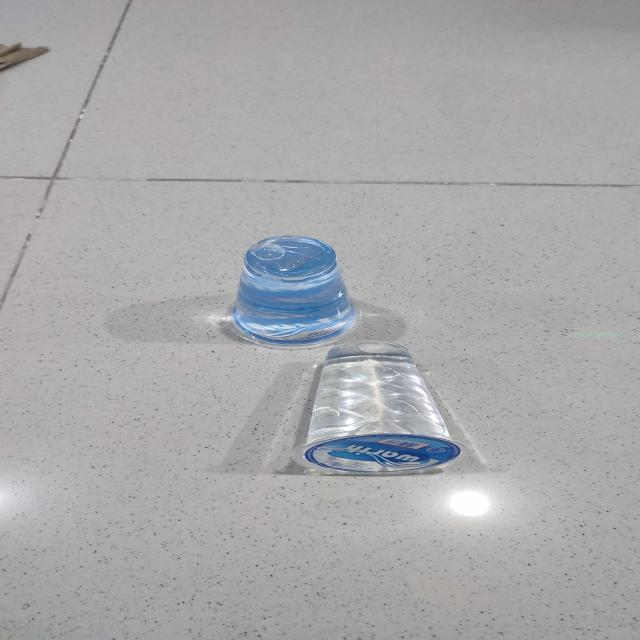air gelas: (293, 338, 473, 479), (226, 233, 361, 347)
